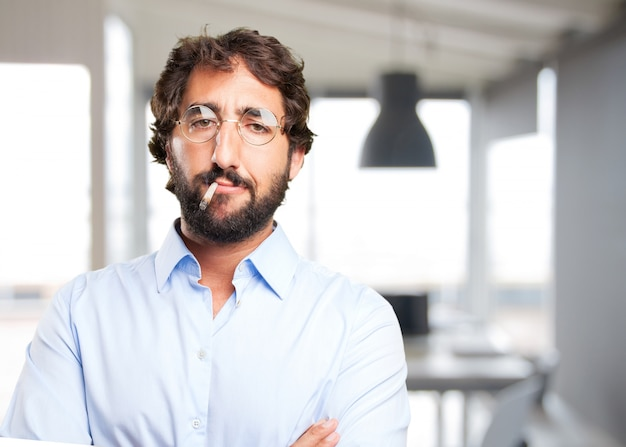cigarette: (198, 181, 221, 213)
